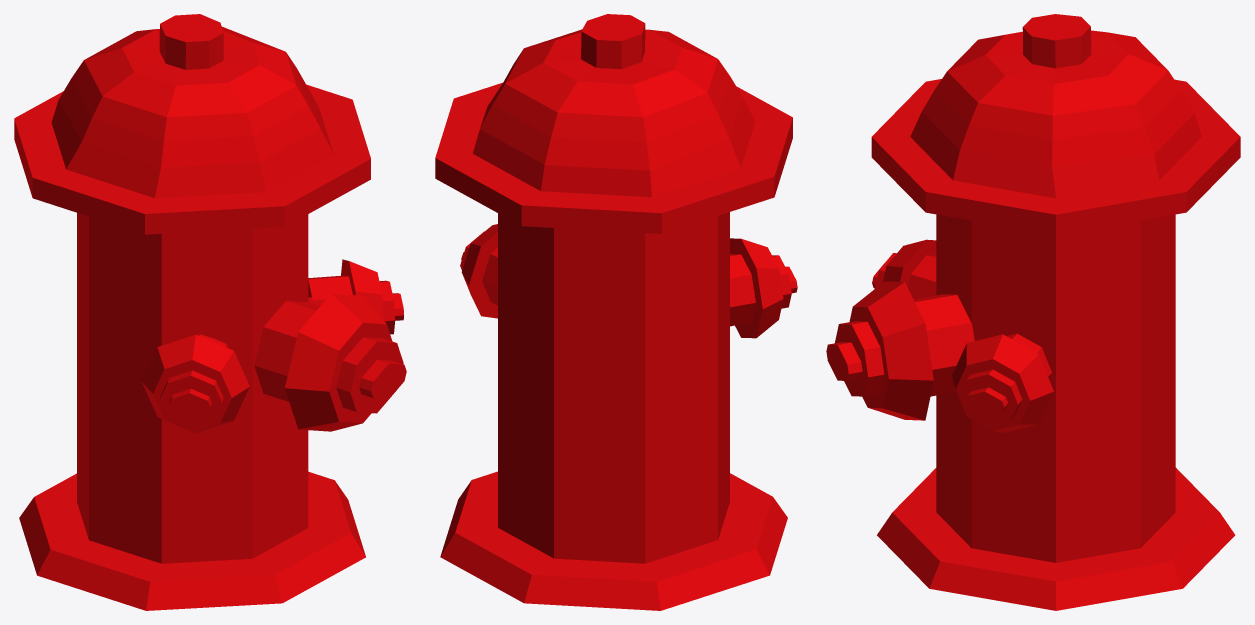
The model's file is fire hydrant.fbx.
3 renders of one model, left to right at view 1: azimuth 30°, elevation 25°; view 2: azimuth 150°, elevation 25°; view 3: azimuth 270°, elevation 25°, orthographic.
Parts seen in each view (by area): view 1: Cylinder; view 2: Cylinder; view 3: Cylinder.
Boxes of the visible parts, left/top/right/bottom form: Cylinder: left=14, top=14, right=406, bottom=610; Cylinder: left=435, top=14, right=797, bottom=610; Cylinder: left=826, top=14, right=1240, bottom=610.
Bounding box in the file's own units: 275 × 396 × 292.
